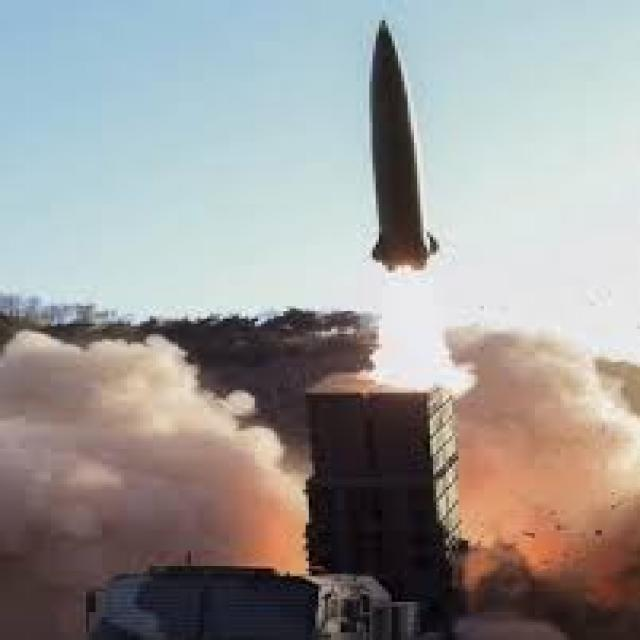Missile: (349, 11, 448, 273)
